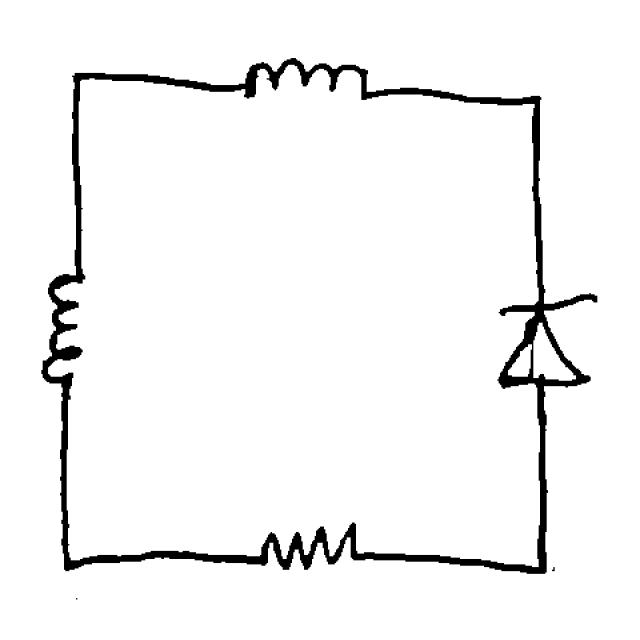diode: (478, 286, 606, 399)
inductor: (221, 48, 383, 119), (30, 252, 96, 404)
resistor: (242, 511, 369, 590)
